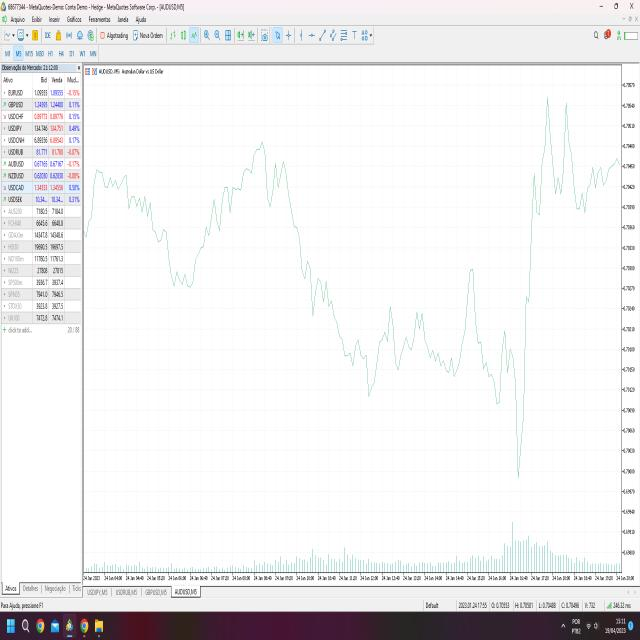topo_duplo: (538, 81, 581, 242)
